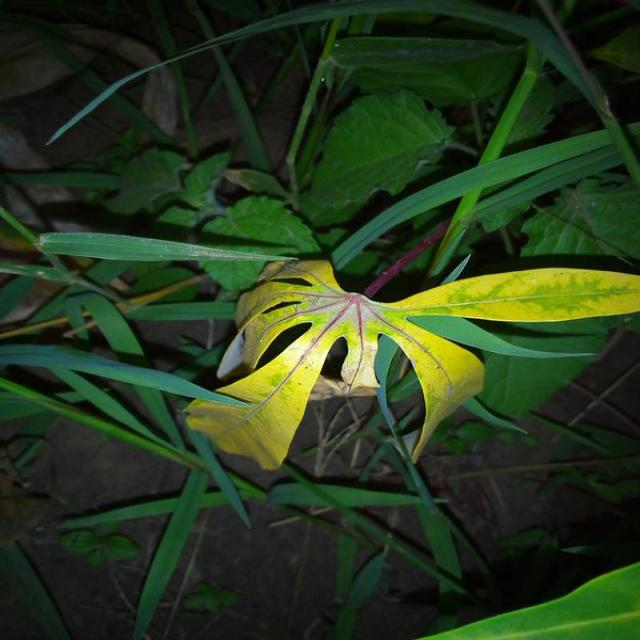cassava leaf: (182, 253, 638, 472)
